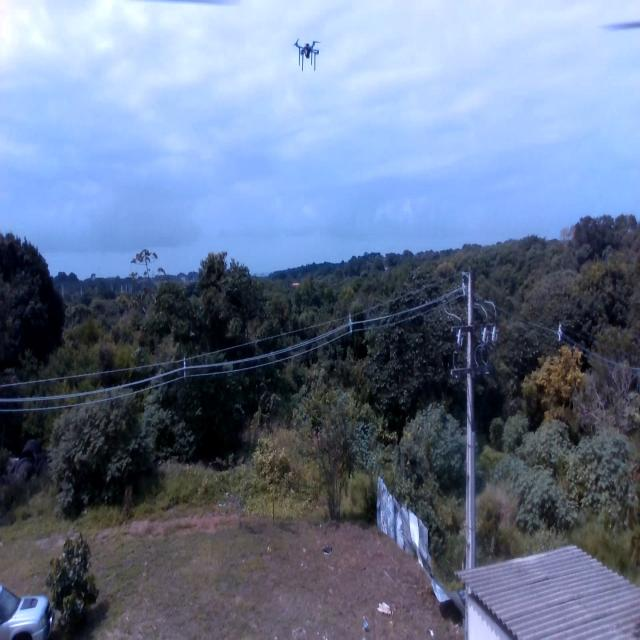-uav-: (291, 28, 323, 77)
